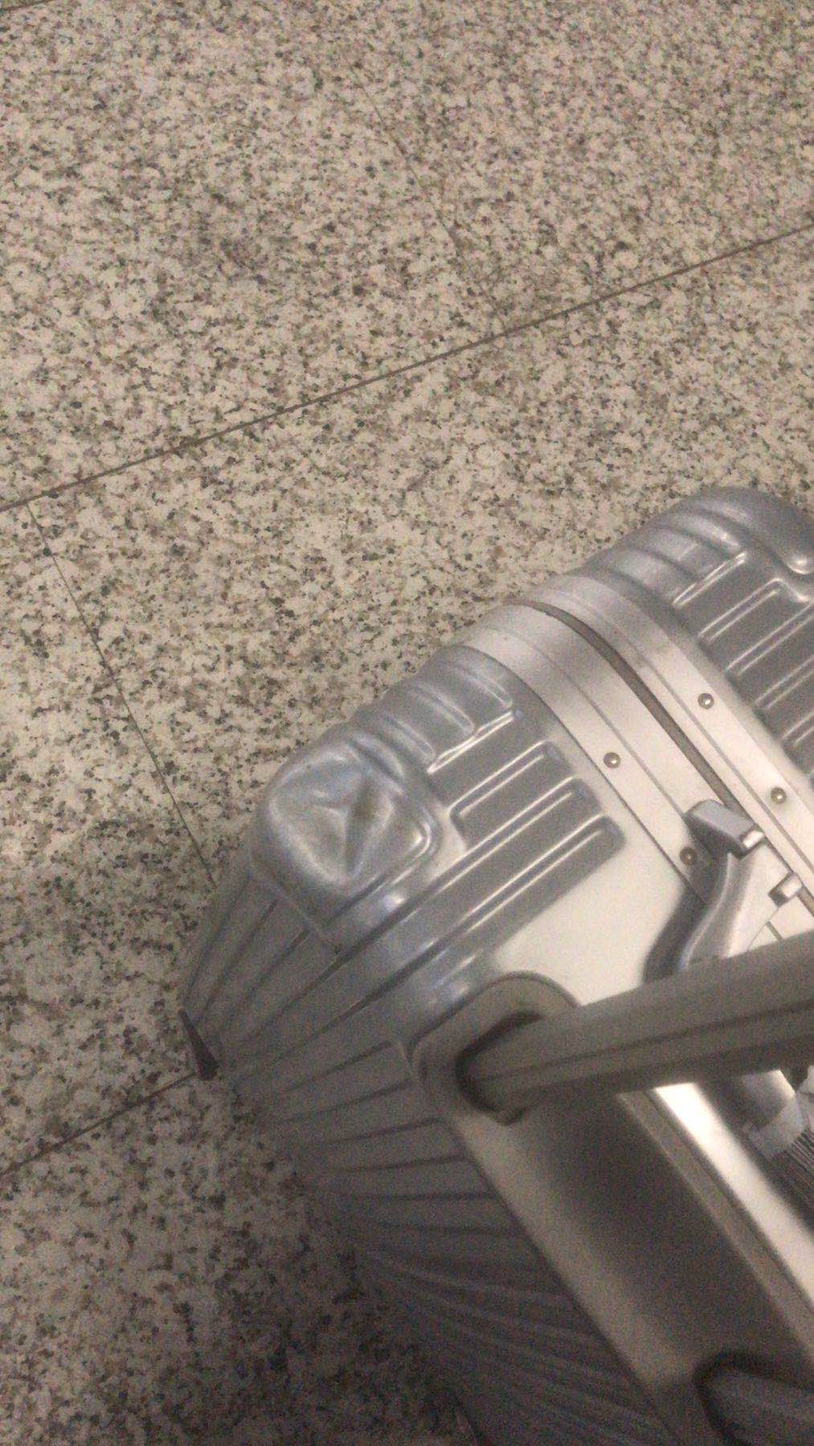rupture: (269, 754, 401, 888)
